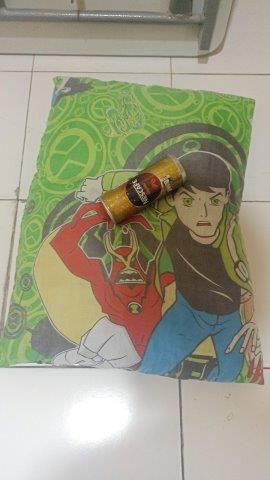kaleng: (100, 153, 188, 222)
